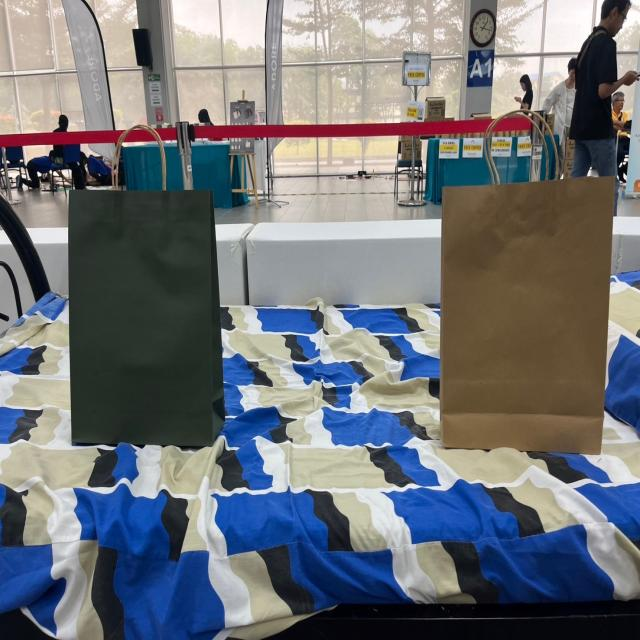bag: (76, 112, 220, 433), (451, 126, 594, 443)
